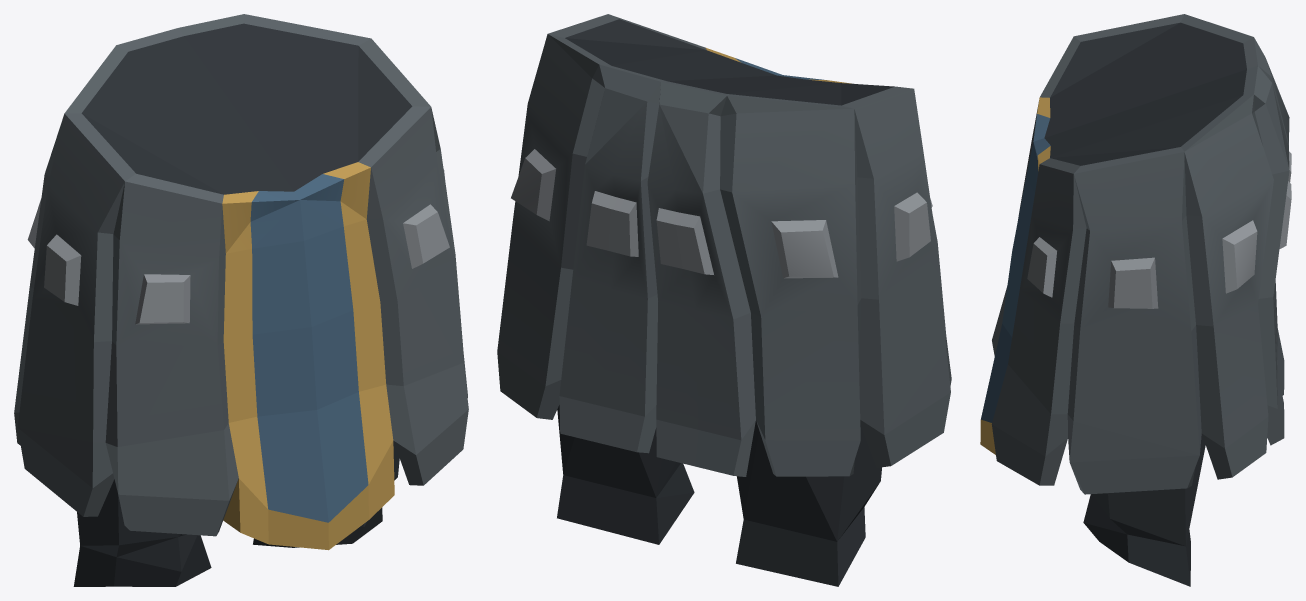
File: Chr_Hips_Female_25_Static.fbx
3 views of the same model, side by side, from view 1: azimuth 30°, elevation 25°; view 2: azimuth 150°, elevation 25°; view 3: azimuth 270°, elevation 25° (orthographic). The views are drawn at different scales.
Visible parts, largest first — view 1: Chr_Hips_Female_25_Static; view 2: Chr_Hips_Female_25_Static; view 3: Chr_Hips_Female_25_Static.
Part boxes in pixels (x1,y1,x2,y2): Chr_Hips_Female_25_Static: (14,14,468,586); Chr_Hips_Female_25_Static: (497,14,951,586); Chr_Hips_Female_25_Static: (980,14,1291,586).
Size of the model in its own units: 0.4669 by 0.5806 by 0.3561.
